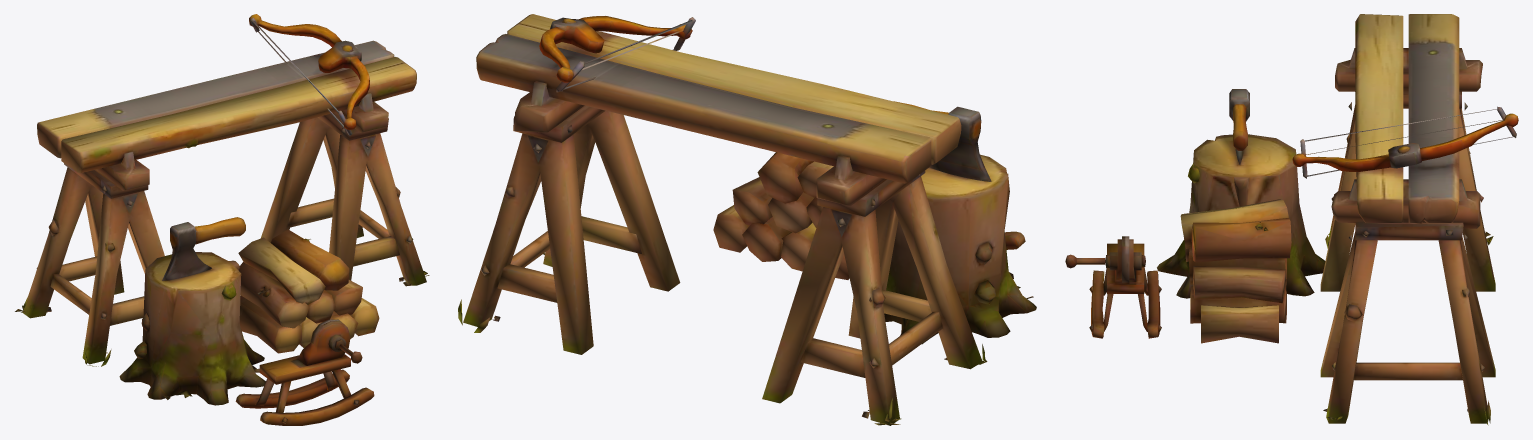
File: station_woodshop.glb
3 renders of one model, left to right at view 1: azimuth 30°, elevation 25°; view 2: azimuth 150°, elevation 25°; view 3: azimuth 270°, elevation 25°, orthographic. The views are drawn at different scales.
Visible parts, largest first — view 1: tripo_node_796b4e0a-949c-47a1-95b3-3a4e17182854; view 2: tripo_node_796b4e0a-949c-47a1-95b3-3a4e17182854; view 3: tripo_node_796b4e0a-949c-47a1-95b3-3a4e17182854.
Part boxes in pixels (left/top/right/bottom): tripo_node_796b4e0a-949c-47a1-95b3-3a4e17182854: left=15, top=14, right=429, bottom=425; tripo_node_796b4e0a-949c-47a1-95b3-3a4e17182854: left=458, top=14, right=1036, bottom=425; tripo_node_796b4e0a-949c-47a1-95b3-3a4e17182854: left=1065, top=14, right=1518, bottom=425.
Size of the model in its own units: 2.67 by 1.8 by 2.67.
1 material, 1 textured.
